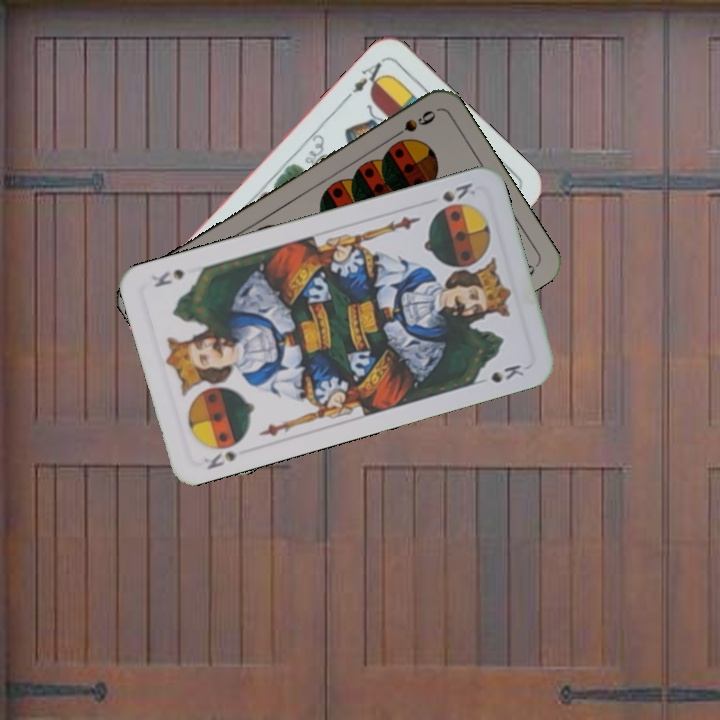EA: (341, 58, 390, 103)
S9: (385, 105, 439, 144)
SK: (438, 178, 478, 205), (200, 447, 239, 472)
